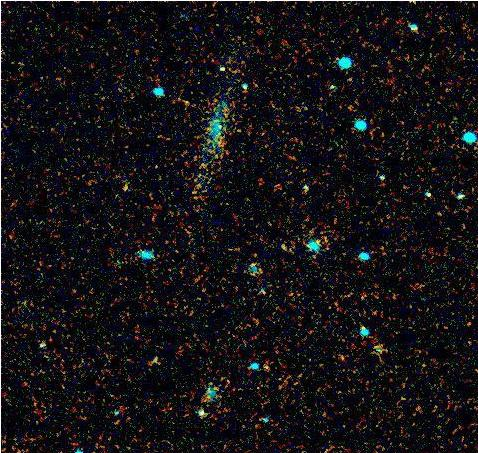star: (205, 52, 235, 82)
